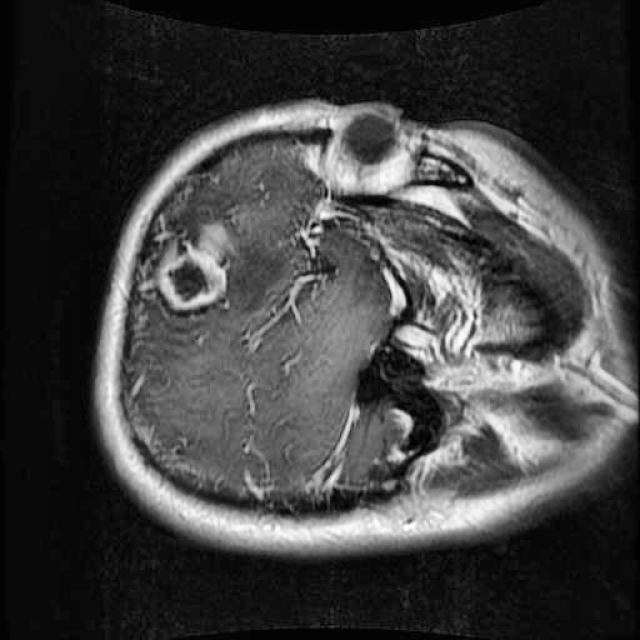Tumor: (142, 206, 258, 330)
